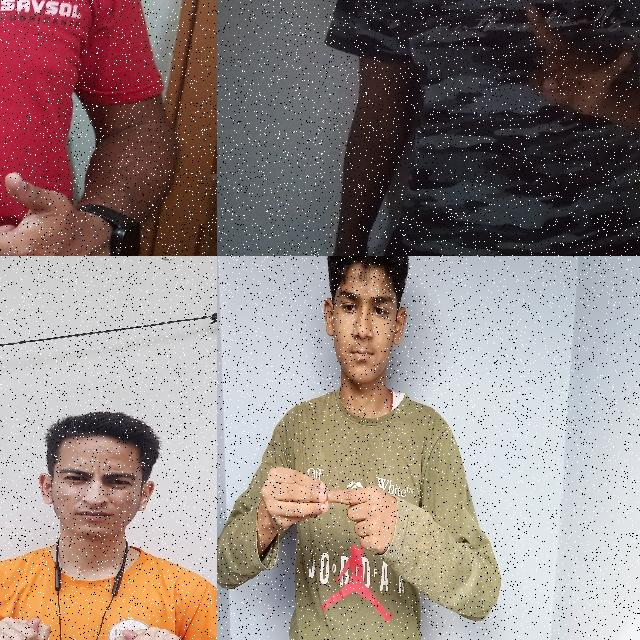Corna: (515, 1, 638, 133)
Dulya: (106, 609, 203, 640), (0, 607, 59, 640)
Five Fathers: (254, 457, 409, 564)
